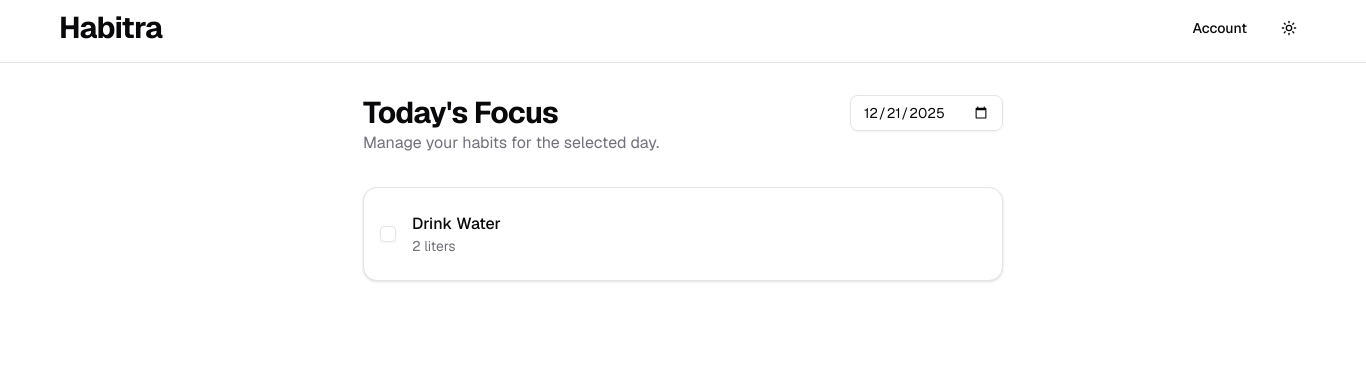
Test: Dashboard habits › moves habit to completed when toggled
This screenshot has width=1366, height=379.
Check: the text "Drink Water" is shown, box [412, 212, 501, 236]
Click the checkbox with test id "habit-checkbox-1".
click(388, 234)  # box [380, 226, 396, 242]
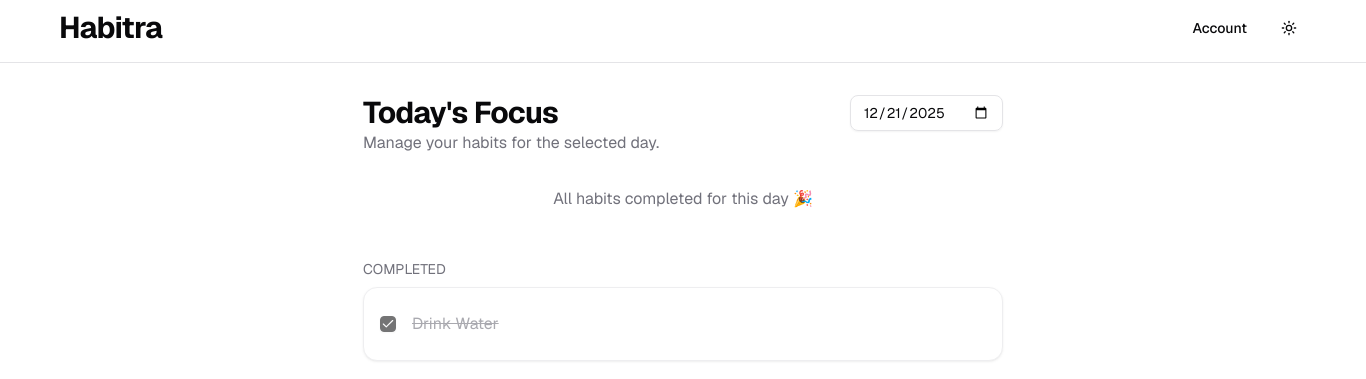
Check: the text "Drink Water" is shown, box [412, 312, 499, 336]
Check: the heading "Completed" is shown, box [363, 260, 446, 278]
